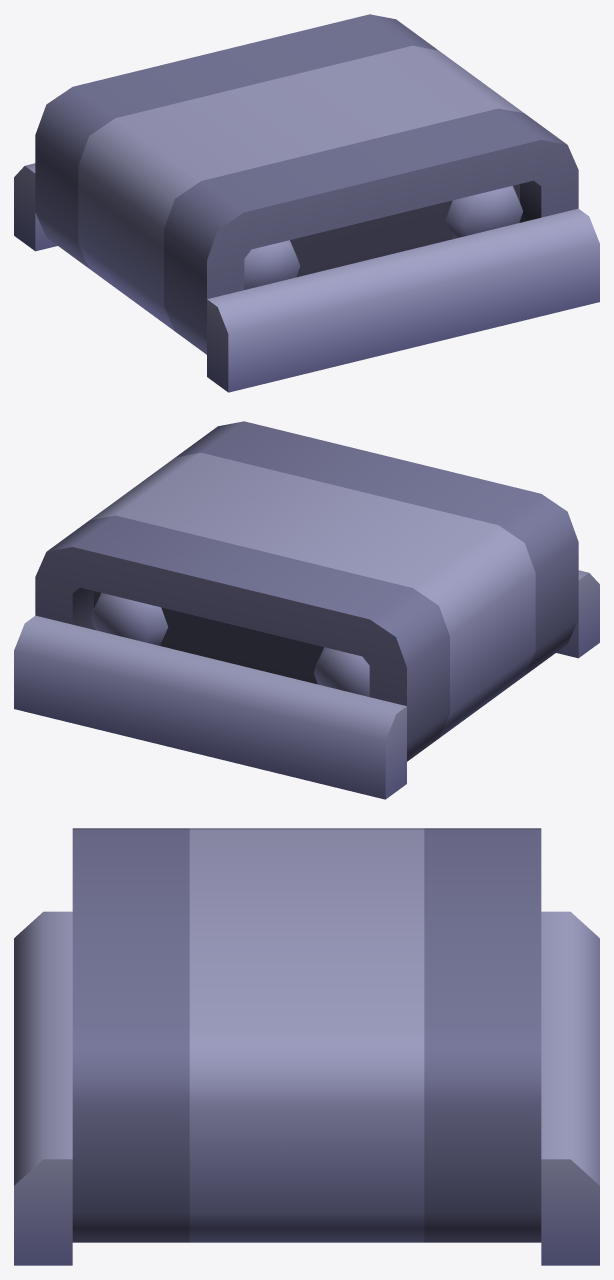
The model's file is conveyor-stripe-sides.fbx.
The picture shows the model from 3 angles, top to bottom: view 1: azimuth 30°, elevation 25°; view 2: azimuth 150°, elevation 25°; view 3: azimuth 270°, elevation 25°; orthographic projection. The views are drawn at different scales.
Parts seen in each view (by area): view 1: conveyor-stripe-sides; view 2: conveyor-stripe-sides; view 3: conveyor-stripe-sides.
Boxes of the visible parts, x1,y1,x2,y2 form: conveyor-stripe-sides: (14,14,599,392); conveyor-stripe-sides: (14,421,599,799); conveyor-stripe-sides: (14,828,599,1265).
Size of the model in its own units: 100 by 40 by 100.
1 material, 1 textured.
